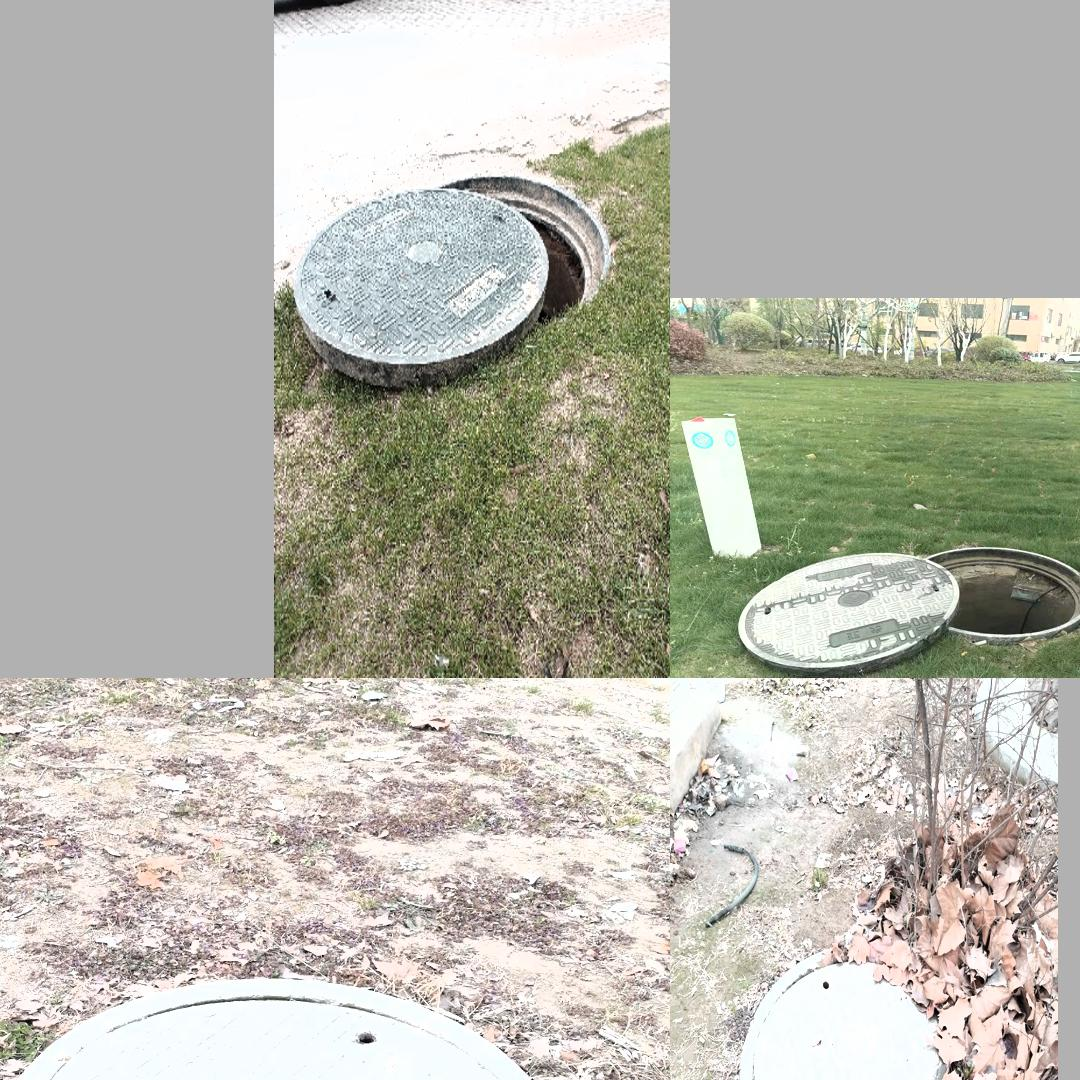uncovered: (296, 172, 612, 391), (0, 976, 560, 1080), (738, 537, 1080, 667), (750, 945, 957, 1080)
